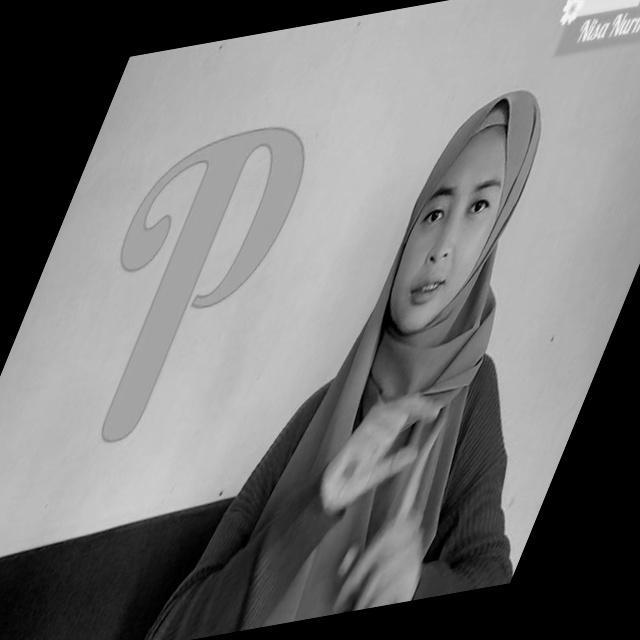P: (316, 388, 461, 616)
